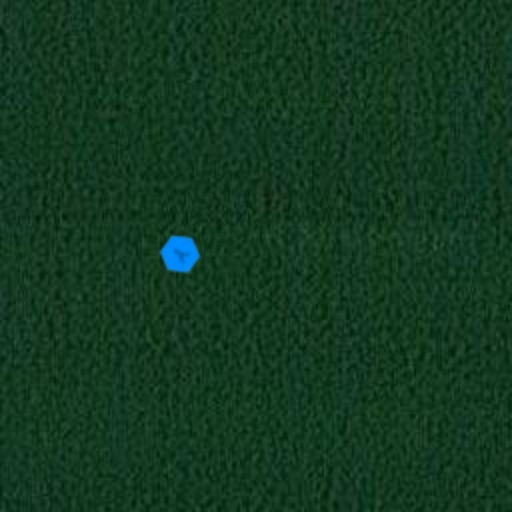hexagon: (150, 224, 210, 284)
